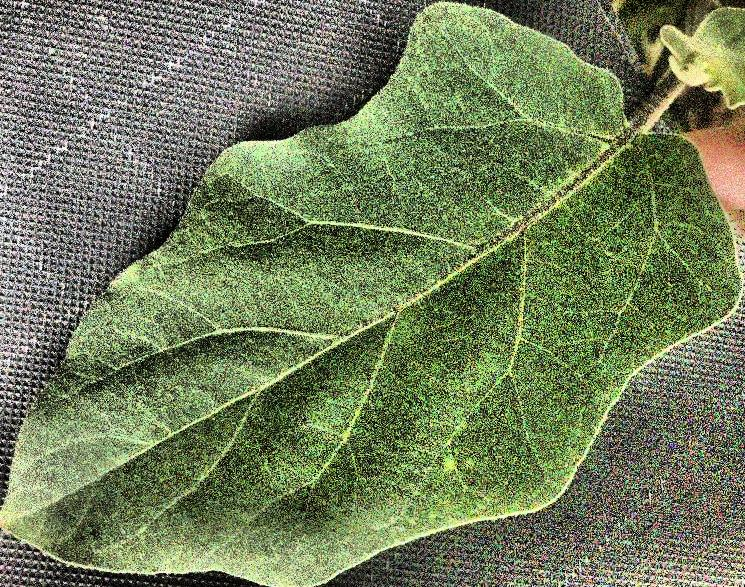HEALTHY: (0, 1, 745, 587)
